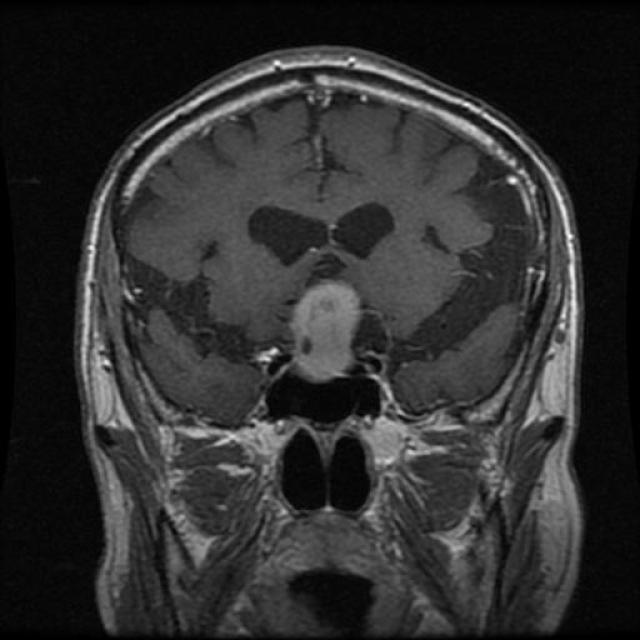pituitary: (286, 272, 368, 388)
